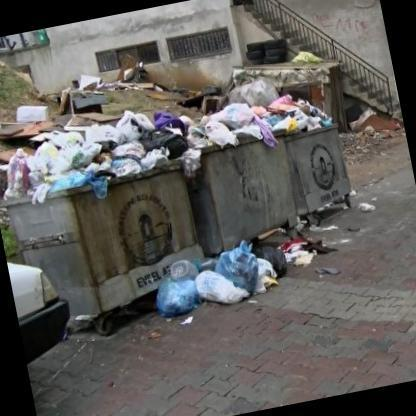Garbage: (0, 72, 333, 197), (146, 272, 212, 330), (209, 234, 254, 294), (198, 262, 250, 308), (278, 233, 336, 274), (252, 234, 292, 284), (252, 258, 292, 301), (0, 142, 32, 192), (250, 111, 284, 157), (58, 150, 93, 188), (199, 121, 236, 154), (283, 112, 323, 135), (167, 254, 197, 280), (89, 118, 118, 144), (182, 146, 204, 177), (87, 175, 115, 198), (30, 176, 52, 204), (363, 194, 385, 212)
